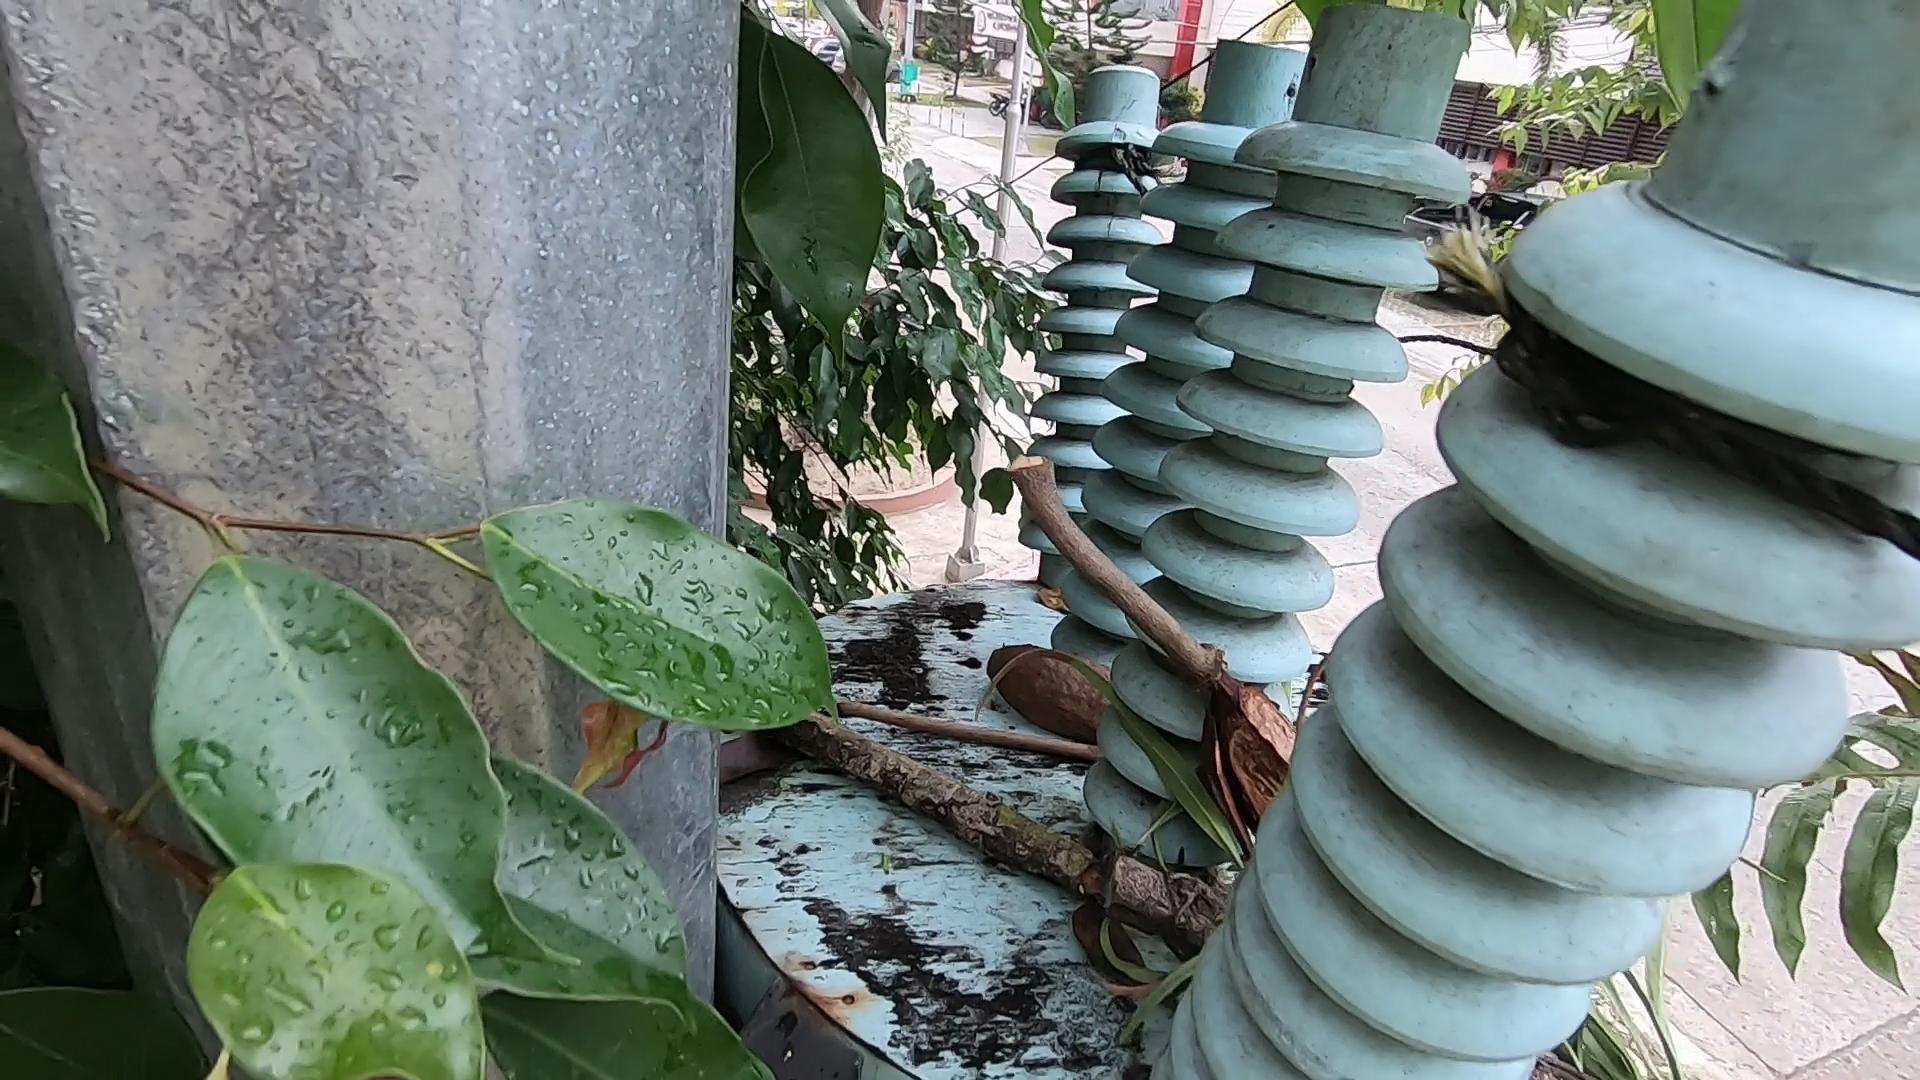branch with leaves: (799, 717, 1215, 942)
leaf: (1118, 698, 1255, 878), (1076, 882, 1129, 984)
mahogany fruit: (972, 621, 1126, 769), (1195, 682, 1320, 798)
tree branch: (1025, 451, 1232, 702), (824, 698, 1106, 761)
